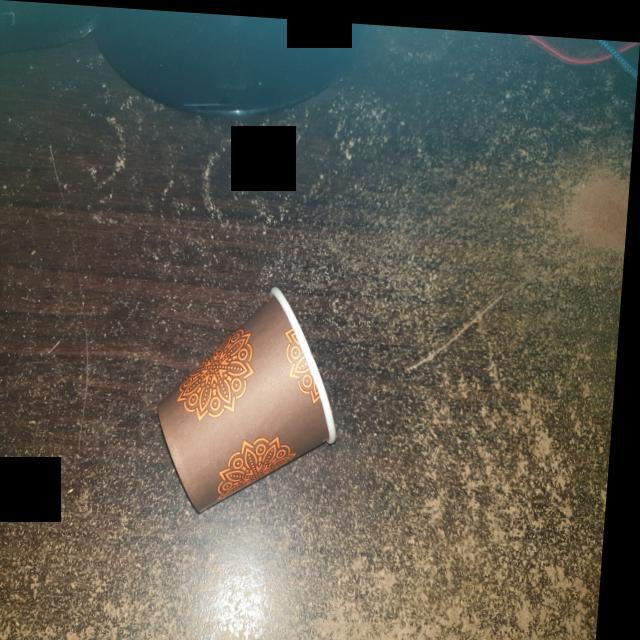cups: (148, 271, 357, 525)
